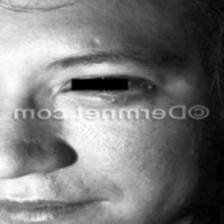Toxin: (97, 92, 138, 106)
